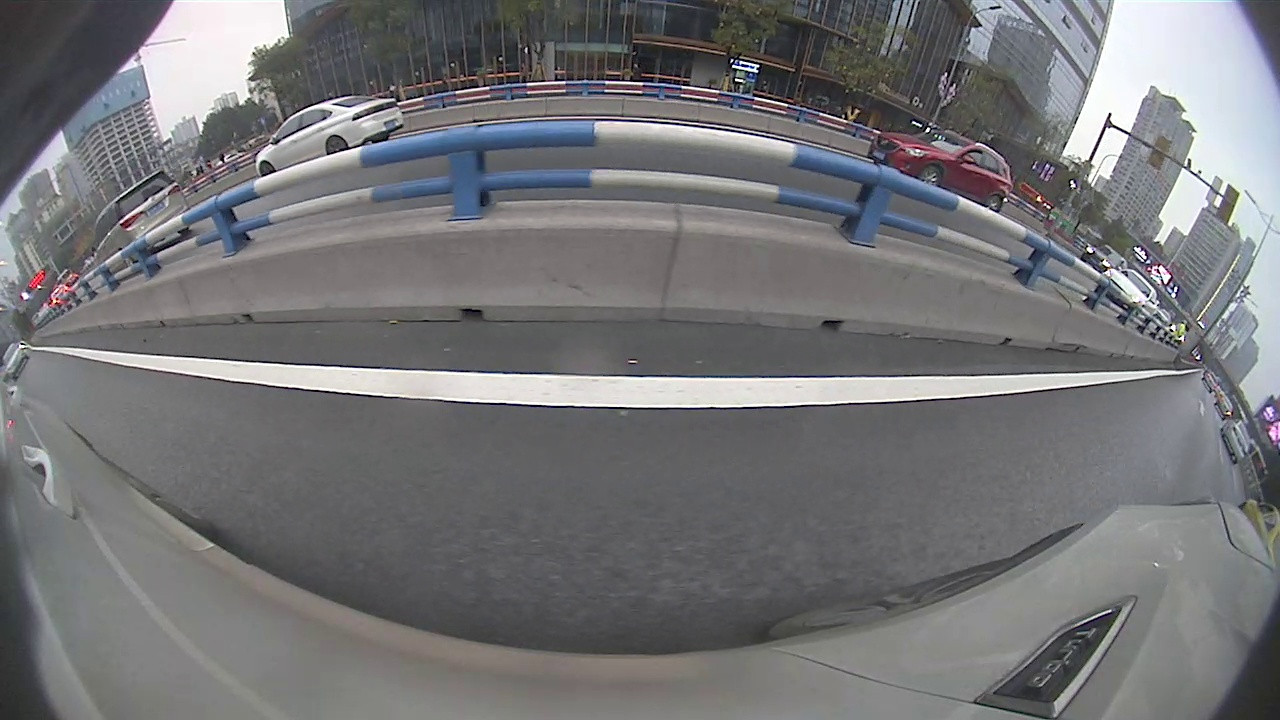car: (868, 128, 1017, 212), (1220, 417, 1253, 464)
front: (916, 165, 945, 187), (257, 161, 277, 175)
rear: (985, 191, 1008, 213), (323, 135, 348, 152)
